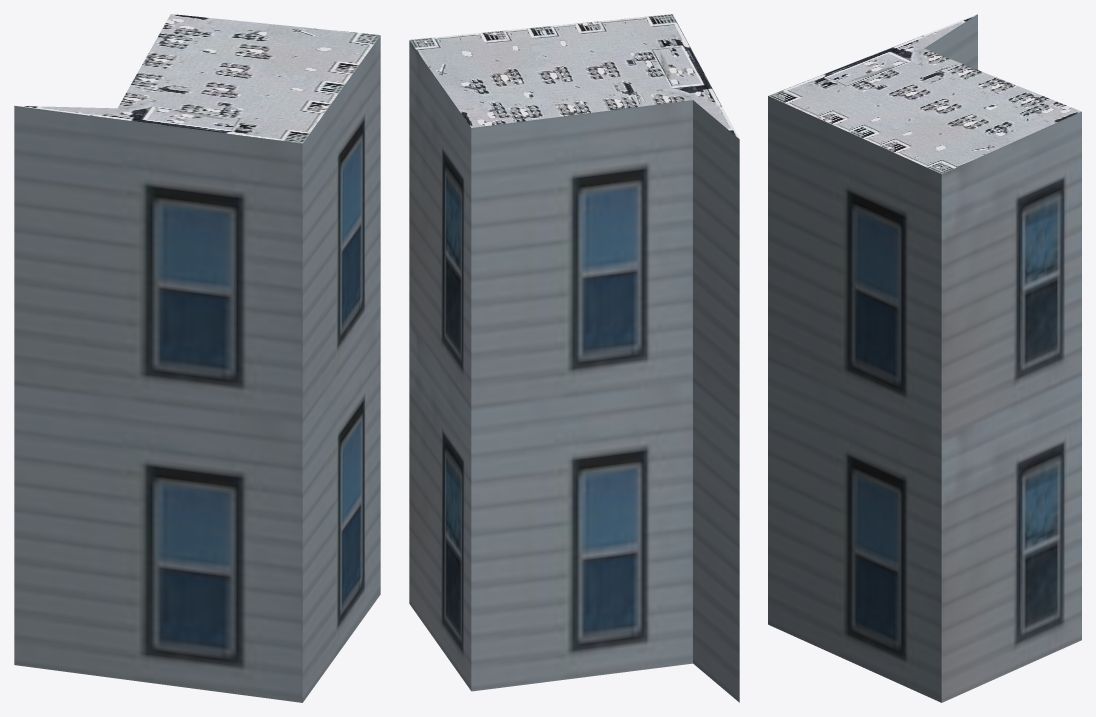
File: ResTex__3466.fbx
3 renders of one model, left to right at view 1: azimuth 30°, elevation 25°; view 2: azimuth 150°, elevation 25°; view 3: azimuth 270°, elevation 25°, orthographic. The views are drawn at different scales.
Parts seen in each view (by area): view 1: CityEngineMaterial_18_m, CityEngineMaterial_8_m; view 2: CityEngineMaterial_18_m, CityEngineMaterial_8_m; view 3: CityEngineMaterial_18_m, CityEngineMaterial_8_m.
Boxes of the visible parts, <box> form: CityEngineMaterial_18_m: <box>14,35,380,702</box>; CityEngineMaterial_8_m: <box>15,14,380,143</box>; CityEngineMaterial_18_m: <box>409,40,739,702</box>; CityEngineMaterial_8_m: <box>409,14,739,138</box>; CityEngineMaterial_18_m: <box>768,14,1081,702</box>; CityEngineMaterial_8_m: <box>768,14,1081,173</box>.
Size of the model in its own units: 3.9 by 6 by 3.23.
2 materials, 2 textured.
